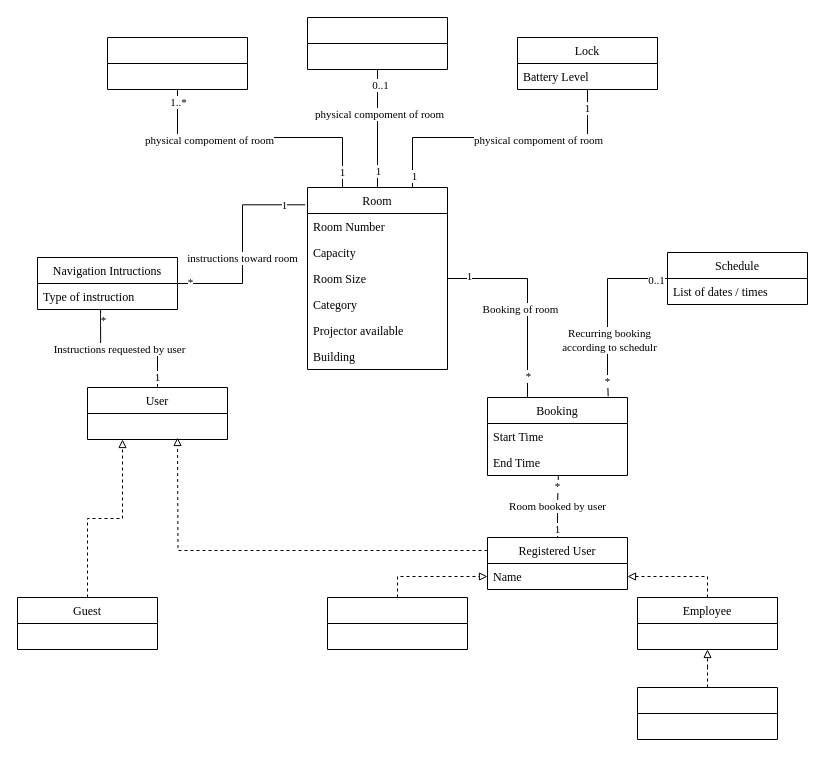
Image size: 825x757. Some labels were removed from this diagram. Each missing label, with the centre of its shape:
"Display" belongs at [377,43].
"Movement sensor" belongs at [177,63].
"Professors" belongs at [707,713].
"Students" belongs at [397,623].
